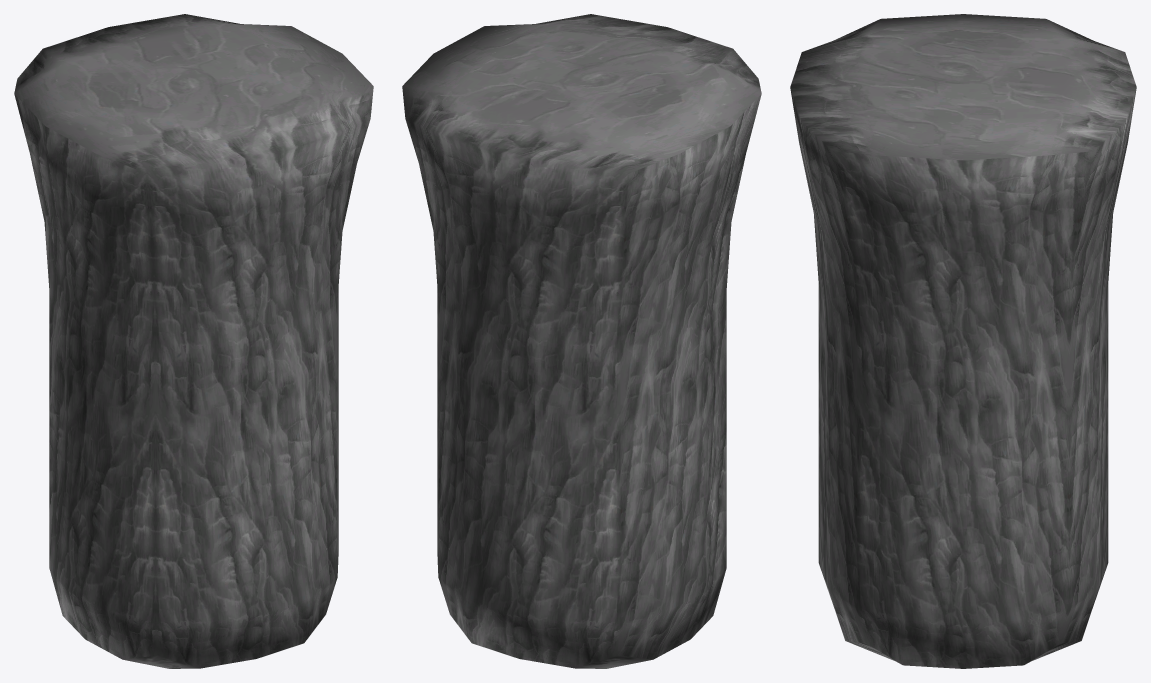
Rendered from INST_SWORDLIGHT_ROCKPLATC.fbx.
3 views of the same model, side by side, from view 1: azimuth 30°, elevation 25°; view 2: azimuth 150°, elevation 25°; view 3: azimuth 270°, elevation 25° (orthographic).
Visible parts, largest first — view 1: INST_SWORDLIGHT_ROCKPLATC; view 2: INST_SWORDLIGHT_ROCKPLATC; view 3: INST_SWORDLIGHT_ROCKPLATC.
Part boxes in pixels (x1,y1,x2,y2): INST_SWORDLIGHT_ROCKPLATC: (14, 14, 373, 668); INST_SWORDLIGHT_ROCKPLATC: (402, 14, 761, 668); INST_SWORDLIGHT_ROCKPLATC: (790, 14, 1136, 668).
Bounding box in the file's own units: 22433 × 39787 × 22433.
2 materials, 2 textured.
